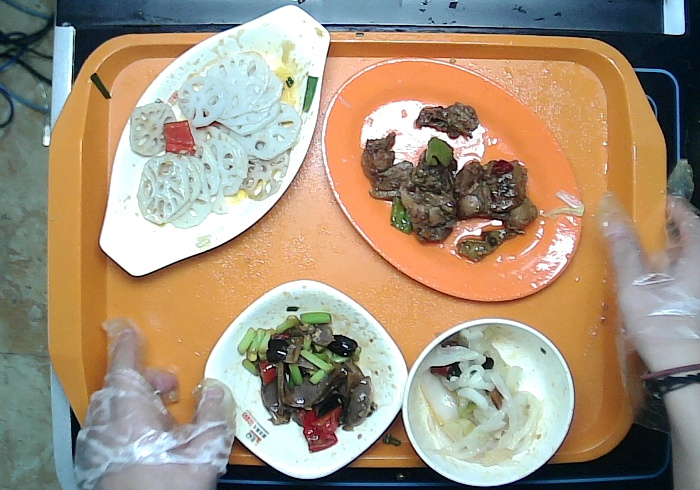NLDX-Bai_Se_Xiao_Fang_Die: (197, 275, 416, 490)
NLDX-Fan_Wan: (395, 310, 583, 490)
NLDX-Ju_Se_Pan: (313, 50, 594, 310)
NLDX-Yu_Pan: (93, 1, 338, 286)
